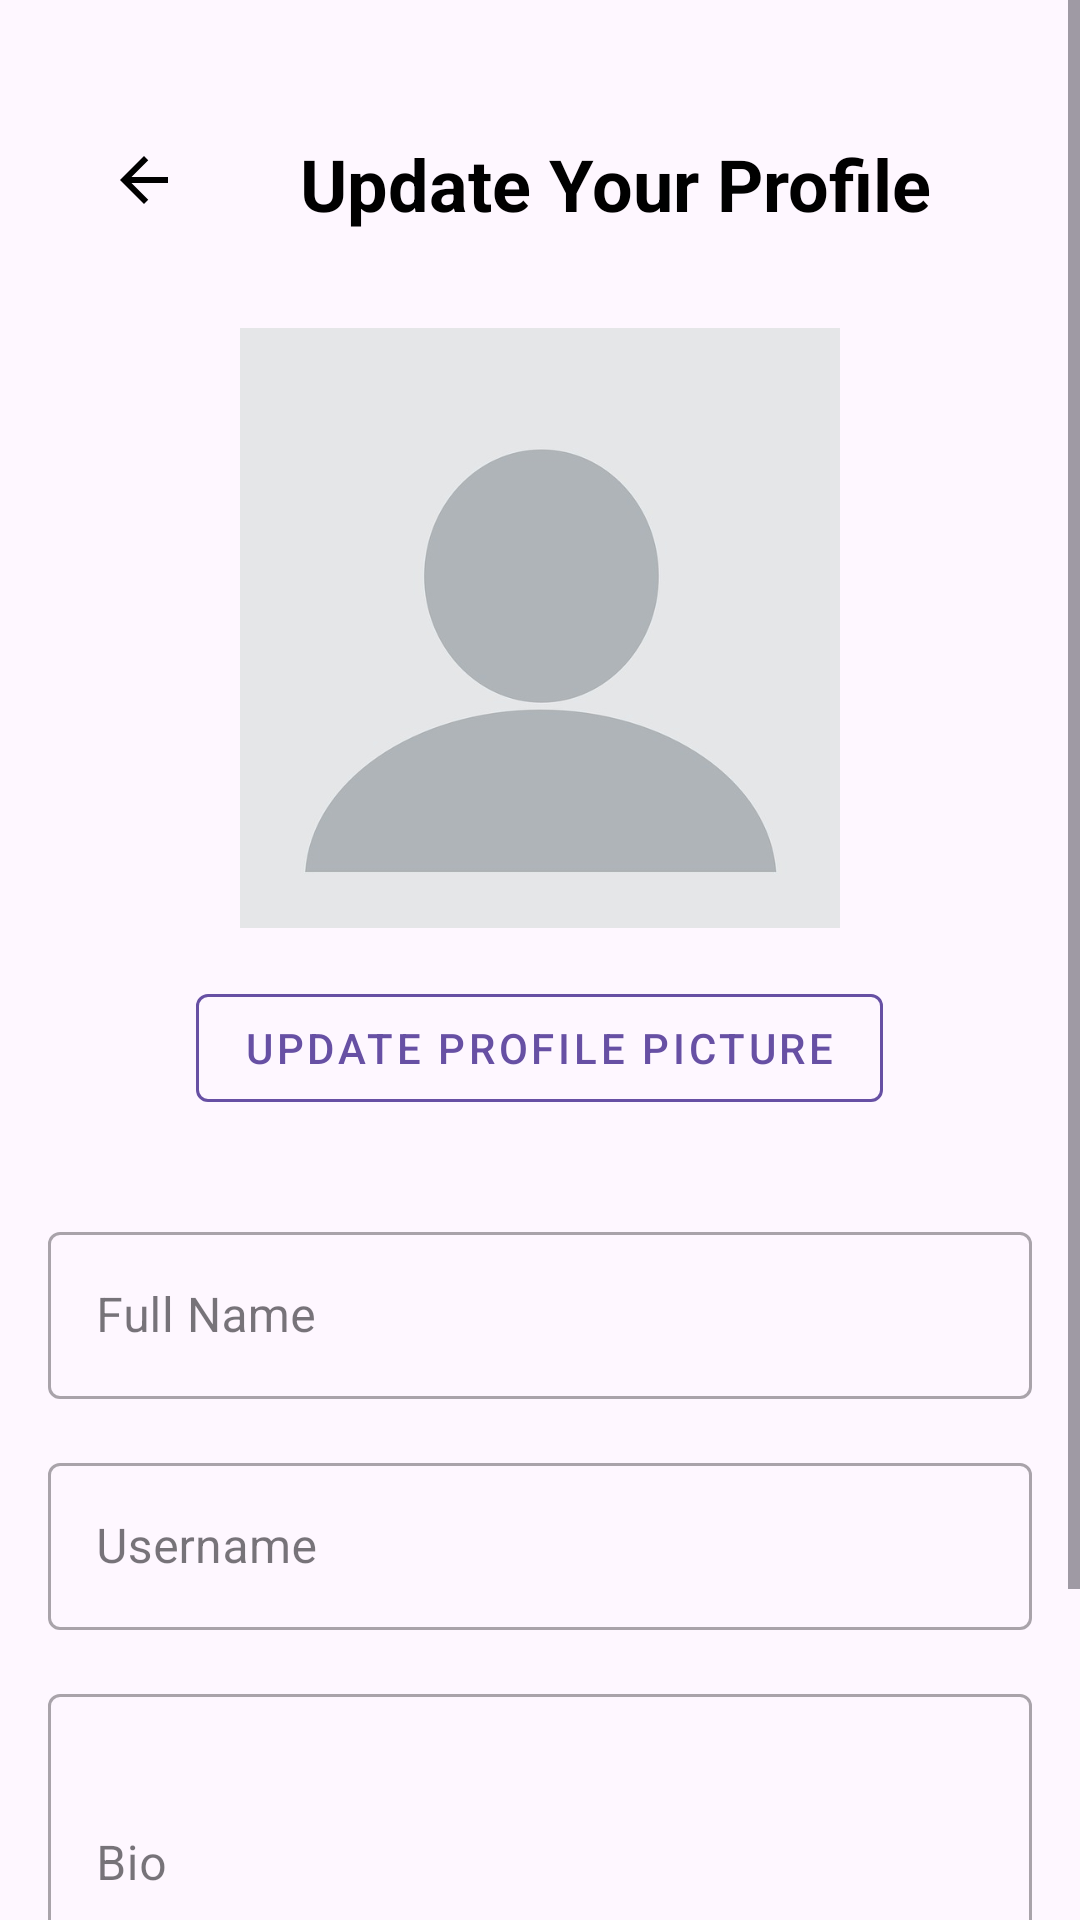

Named icons in this screenshot (1080*1920) and their bounding boxes, box(x1, y1, x2, y2):
Back Button: box(120, 156, 168, 204)
